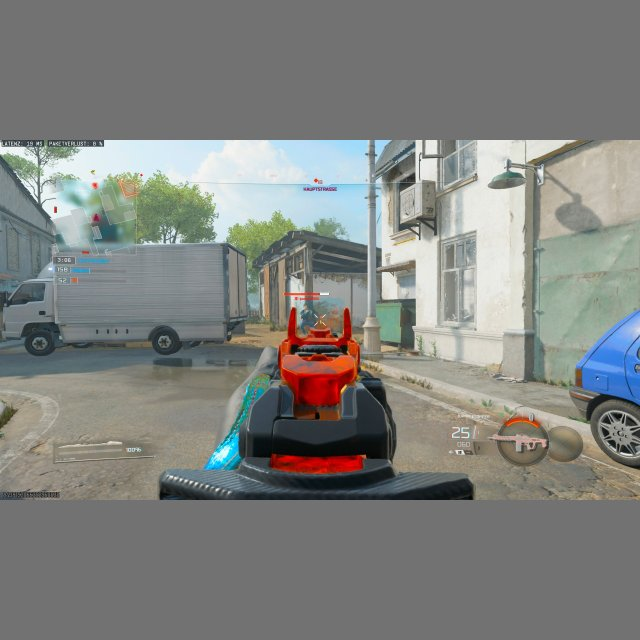player: (300, 304, 313, 336)
